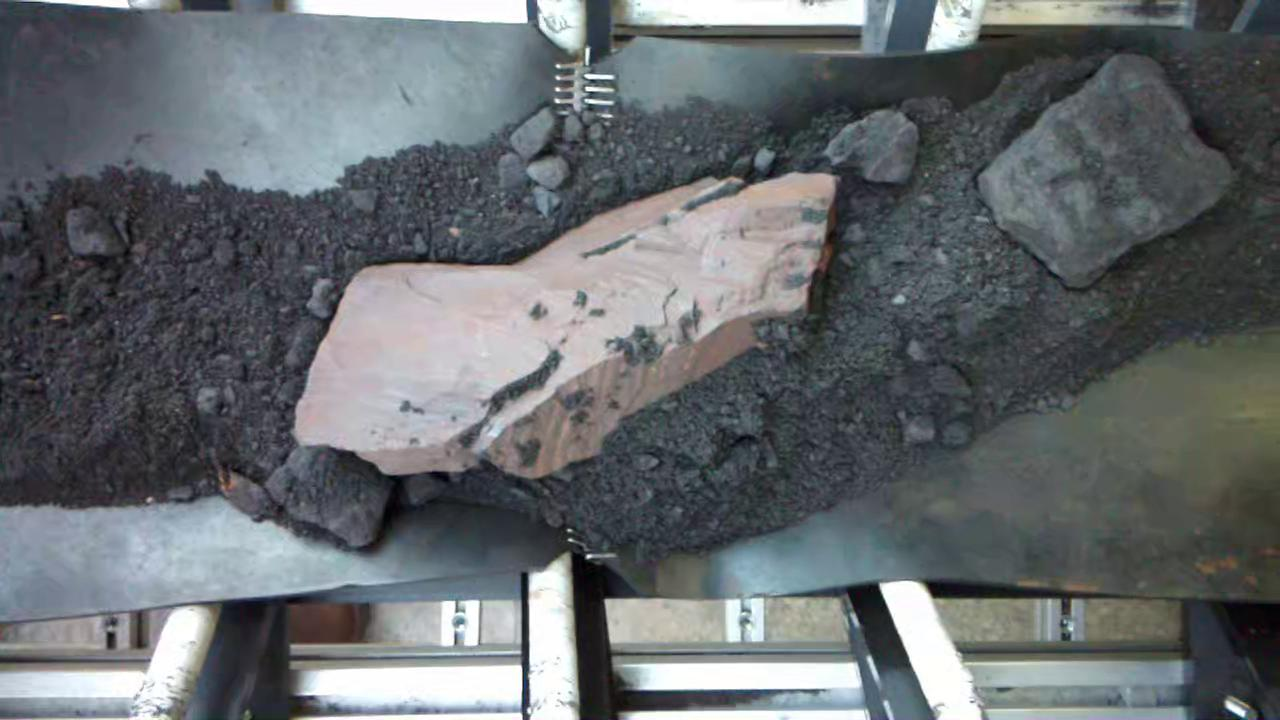conveyor: (14, 65, 1271, 560)
